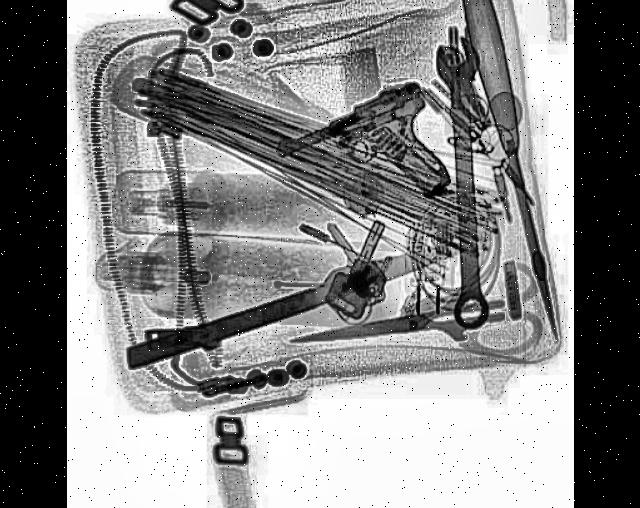Gun: (272, 66, 450, 264), (287, 282, 503, 364)
Knife: (122, 229, 478, 369), (451, 0, 568, 348)
Wrench: (431, 34, 489, 330)
